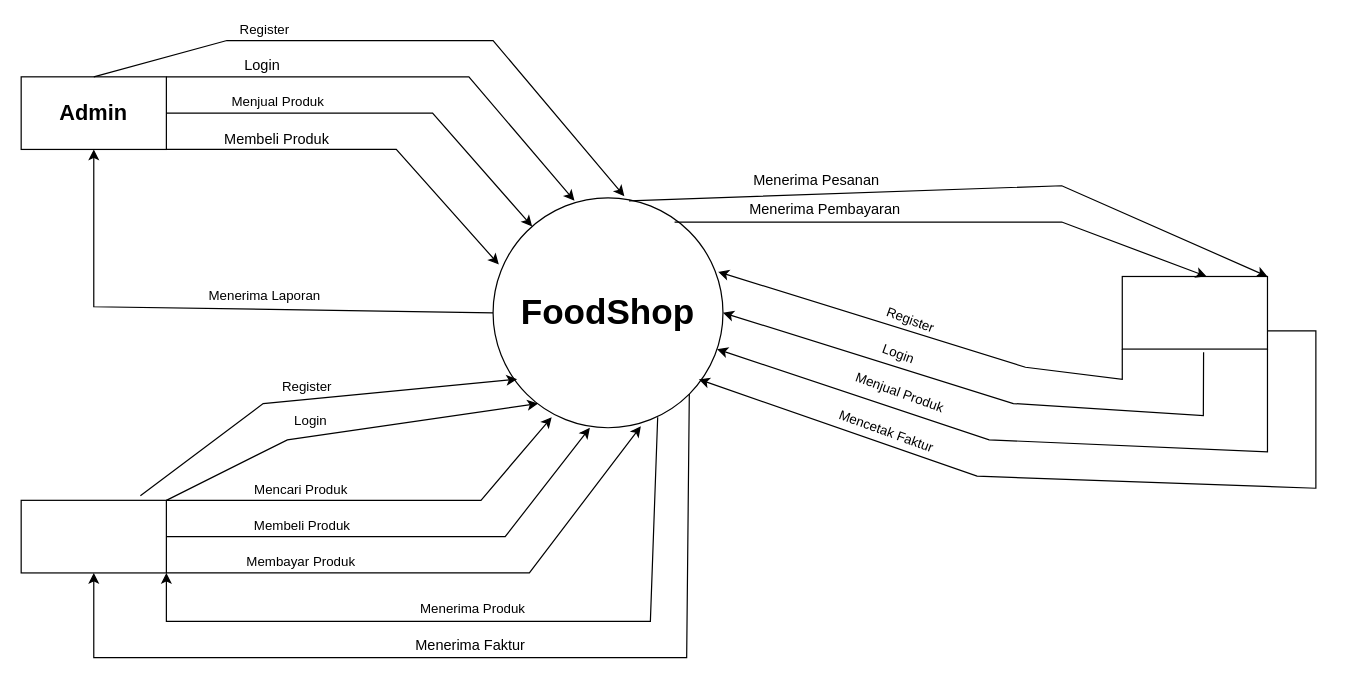
The diagram is 1347 pixels wide and 688 high, and some of its shapes have lost their labels. Here are the shapes that lost their labels. From the top down, the centre of each, then its label:
the point at 1194,312: Penjual
the point at 93,536: Pembeli
